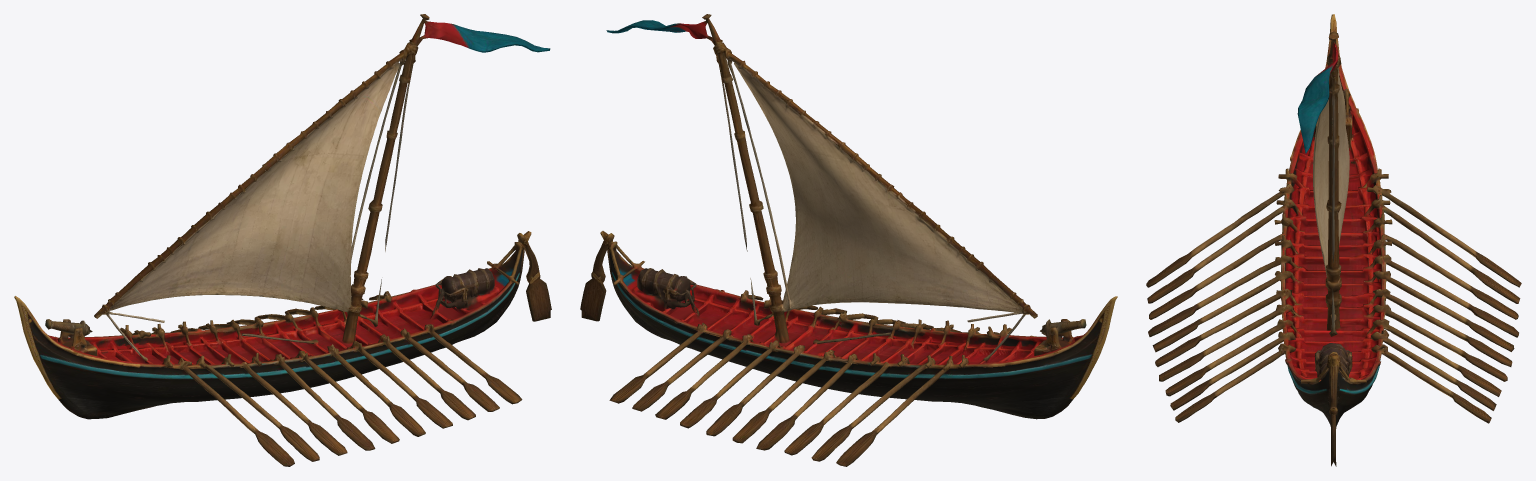
File: osmanli-firkatesi-haber-teknesi-1550-1600-tripo-v1.glb
3 views of the same model, side by side, from view 1: azimuth 30°, elevation 25°; view 2: azimuth 150°, elevation 25°; view 3: azimuth 270°, elevation 25° (orthographic). The views are drawn at different scales.
Visible parts, largest first — view 1: tripo_node_38d3b247-78c5-407f-928f-ab999848787f; view 2: tripo_node_38d3b247-78c5-407f-928f-ab999848787f; view 3: tripo_node_38d3b247-78c5-407f-928f-ab999848787f.
Boxes of the visible parts, x1=… form: tripo_node_38d3b247-78c5-407f-928f-ab999848787f: x1=14, y1=14, x2=551, y2=466; tripo_node_38d3b247-78c5-407f-928f-ab999848787f: x1=580, y1=14, x2=1117, y2=466; tripo_node_38d3b247-78c5-407f-928f-ab999848787f: x1=1146, y1=14, x2=1521, y2=466.
Bounding box in the file's own units: 1 × 0.6098 × 0.5502.
Materials: 1 (1 with a texture image).
